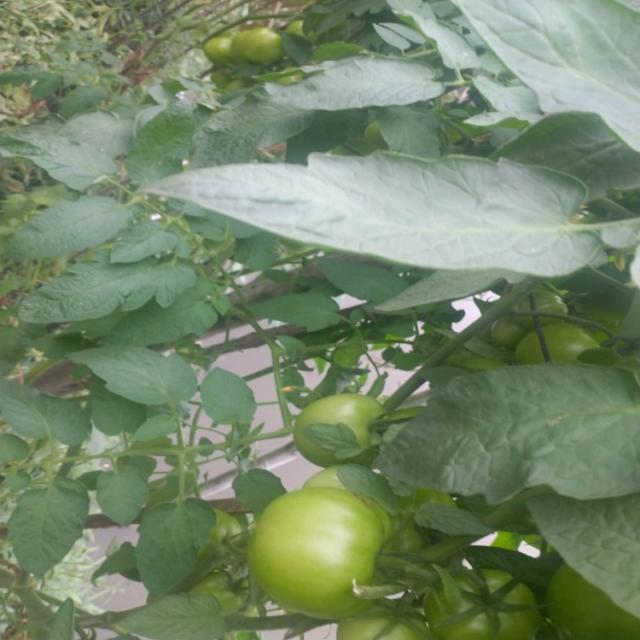tomato: (240, 481, 383, 615), (435, 561, 557, 640), (487, 289, 598, 367), (296, 389, 386, 462), (330, 595, 430, 640), (199, 498, 249, 563), (228, 20, 282, 68), (199, 34, 233, 72)
